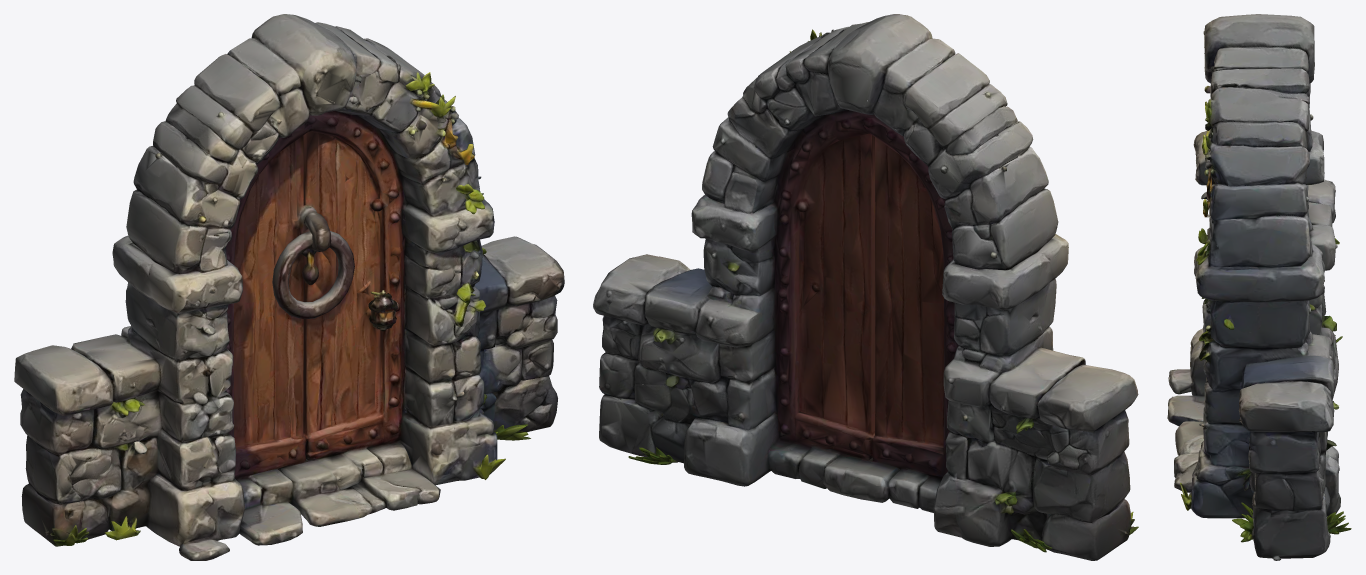
File: abbey_gate.glb
3 renders of one model, left to right at view 1: azimuth 30°, elevation 25°; view 2: azimuth 150°, elevation 25°; view 3: azimuth 270°, elevation 25°, orthographic. The views are drawn at different scales.
Parts seen in each view (by area): view 1: tripo_node_7c69a514-fde5-444d-a172-3d52ba66f7fe; view 2: tripo_node_7c69a514-fde5-444d-a172-3d52ba66f7fe; view 3: tripo_node_7c69a514-fde5-444d-a172-3d52ba66f7fe.
Part boxes in pixels (x1=…): tripo_node_7c69a514-fde5-444d-a172-3d52ba66f7fe: x1=14, y1=14, x2=564, y2=560; tripo_node_7c69a514-fde5-444d-a172-3d52ba66f7fe: x1=593, y1=14, x2=1138, y2=560; tripo_node_7c69a514-fde5-444d-a172-3d52ba66f7fe: x1=1167, y1=14, x2=1351, y2=560.
Bounding box in the file's own units: 0.98 × 0.8484 × 0.3278.
1 material, 1 textured.
